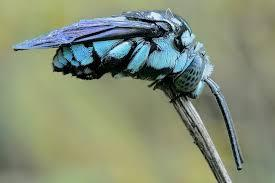Thyreus: (15, 6, 258, 166)
